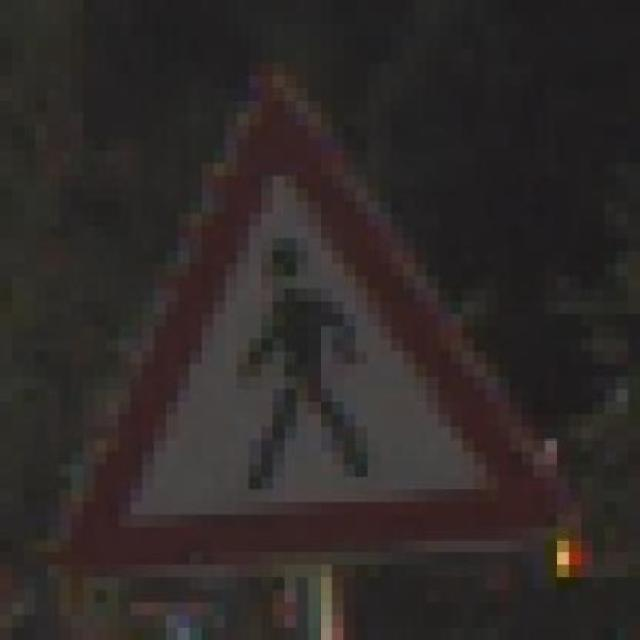Pedestrian Crossing: (50, 62, 572, 590)
